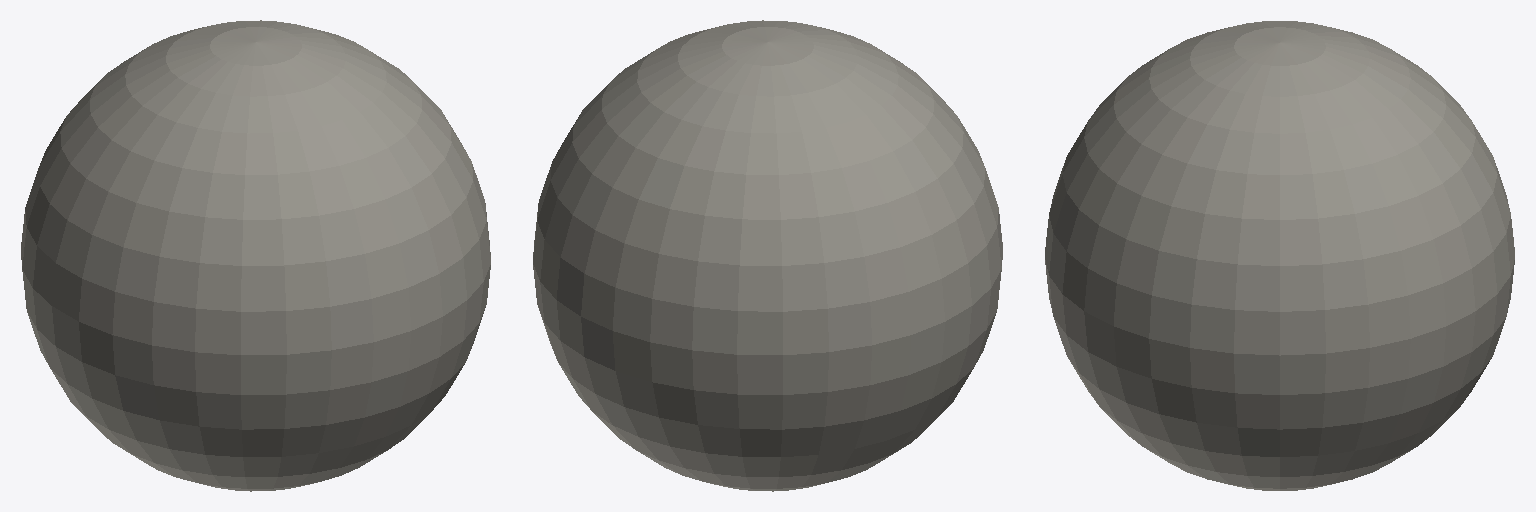
The robot description file, URDF, robot "moon":
<?xml version="1.0"?>
<!-- The Moon, unit sphere scaled by the plugin -->
<robot name="moon">
  <link name="base">
    <visual>
      <origin xyz="0 0 0" rpy="0 0 0"/>
      <geometry><sphere radius="1"/></geometry>
      <material name="base_0"><color rgba="0.620 0.610 0.580 1"/></material>
    </visual>
    <inertial><mass value="1"/><origin xyz="0 0 0"/><inertia ixx="1" ixy="0" ixz="0" iyy="1" iyz="0" izz="1"/></inertial>
  </link>
</robot>

--- What the picture shows (computed from the rendered views, not written in the file) ---
The picture shows the robot from 3 angles, left to right: view 1: azimuth 30°, elevation 25°; view 2: azimuth 150°, elevation 25°; view 3: azimuth 270°, elevation 25°; orthographic projection.
Robot: moon — 1 links, 0 joints (none); root link base; default pose: every joint at zero.
Visible links, largest first — view 1: base; view 2: base; view 3: base.
Link boxes in pixels (x1=…): base: x1=21, y1=20, x2=490, y2=491; base: x1=533, y1=20, x2=1002, y2=491; base: x1=1045, y1=21, x2=1514, y2=490.
Bounding box of the posed robot: 2 × 2 × 2 m (x, y, z).
Geometry: primitives only (box / cylinder / sphere), no mesh files.
